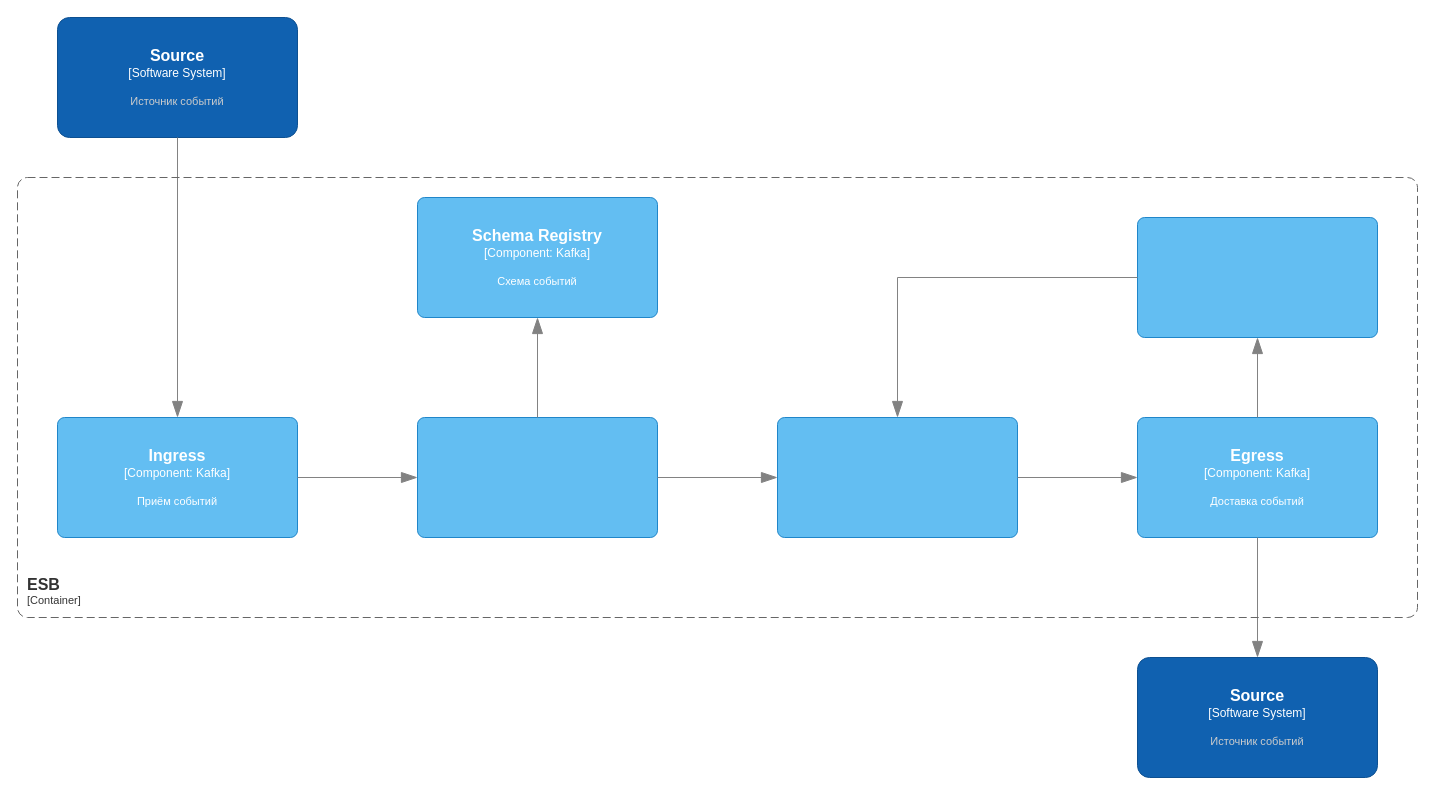
This 1435x795 diagram has some shape labels left out. The centre of each missing label's shape, as x and y in pixels:
"DLQ & Retry [Component: Kafka] Dead Letter Queue и повтор доставки" belongs at point (1257, 277).
"Routing [Component: Kafka] Роутинг событий" belongs at point (537, 477).
"Topic [Component: Kafka] Топики доменов" belongs at point (897, 477).
